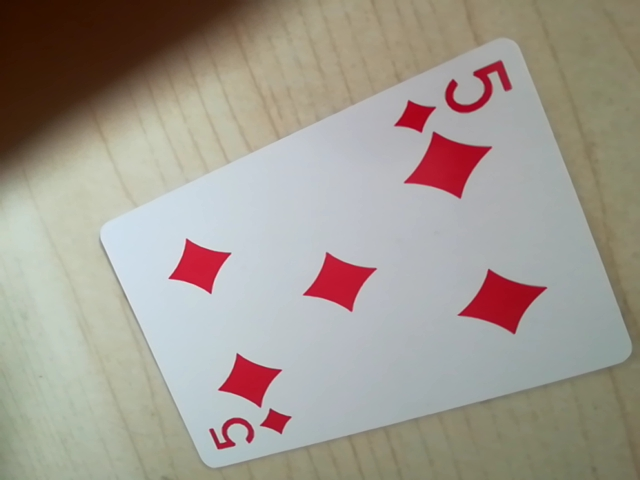fk 5: (393, 54, 513, 135), (203, 402, 295, 459)
